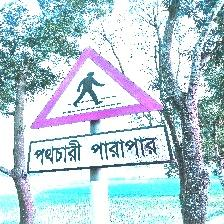Pedestrian-crossing: (28, 47, 170, 173)
